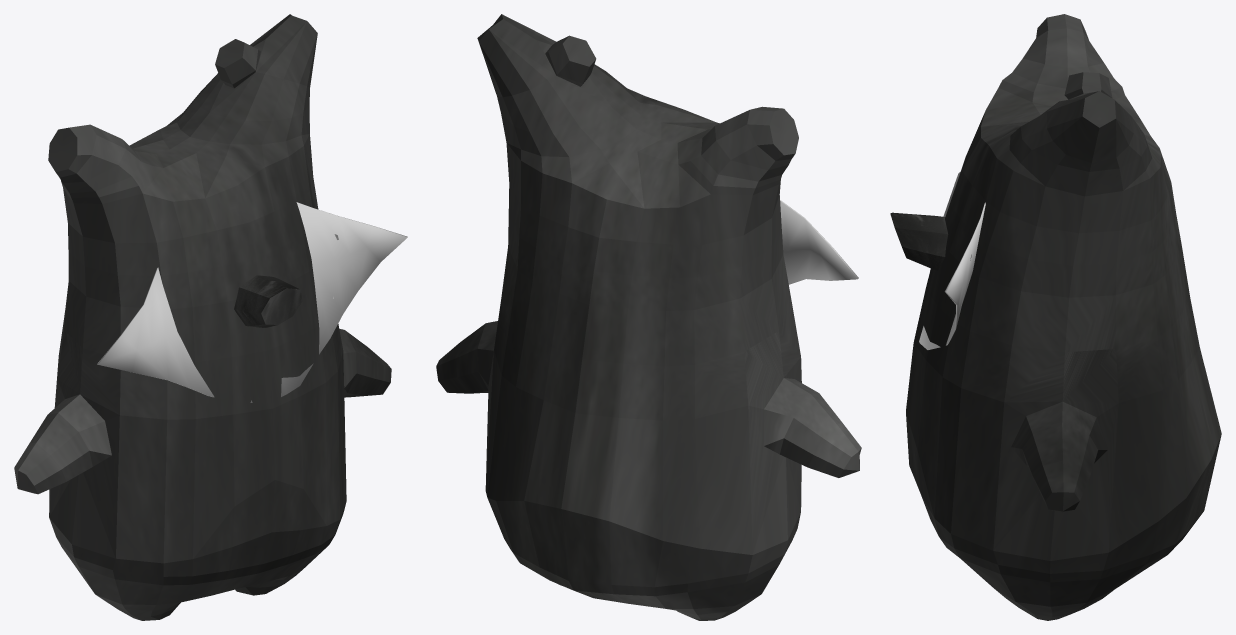
Rendered from frame_0072.obj.
3 renders of one model, left to right at view 1: azimuth 30°, elevation 25°; view 2: azimuth 150°, elevation 25°; view 3: azimuth 270°, elevation 25°, orthographic. The views are drawn at different scales.
Parts seen in each view (by area): view 1: korok, leaf, nose; view 2: korok, leaf; view 3: korok, nose, leaf.
Part boxes in pixels (x1,y1,x2,y2): korok: (14,14,391,620); leaf: (97,202,407,402); nose: (234,275,302,327); korok: (436,14,861,620); leaf: (780,200,858,284); korok: (906,14,1221,620); nose: (890,212,948,270); leaf: (919,172,985,349).
Size of the model in its own units: 1.68 by 2.27 by 1.22.
